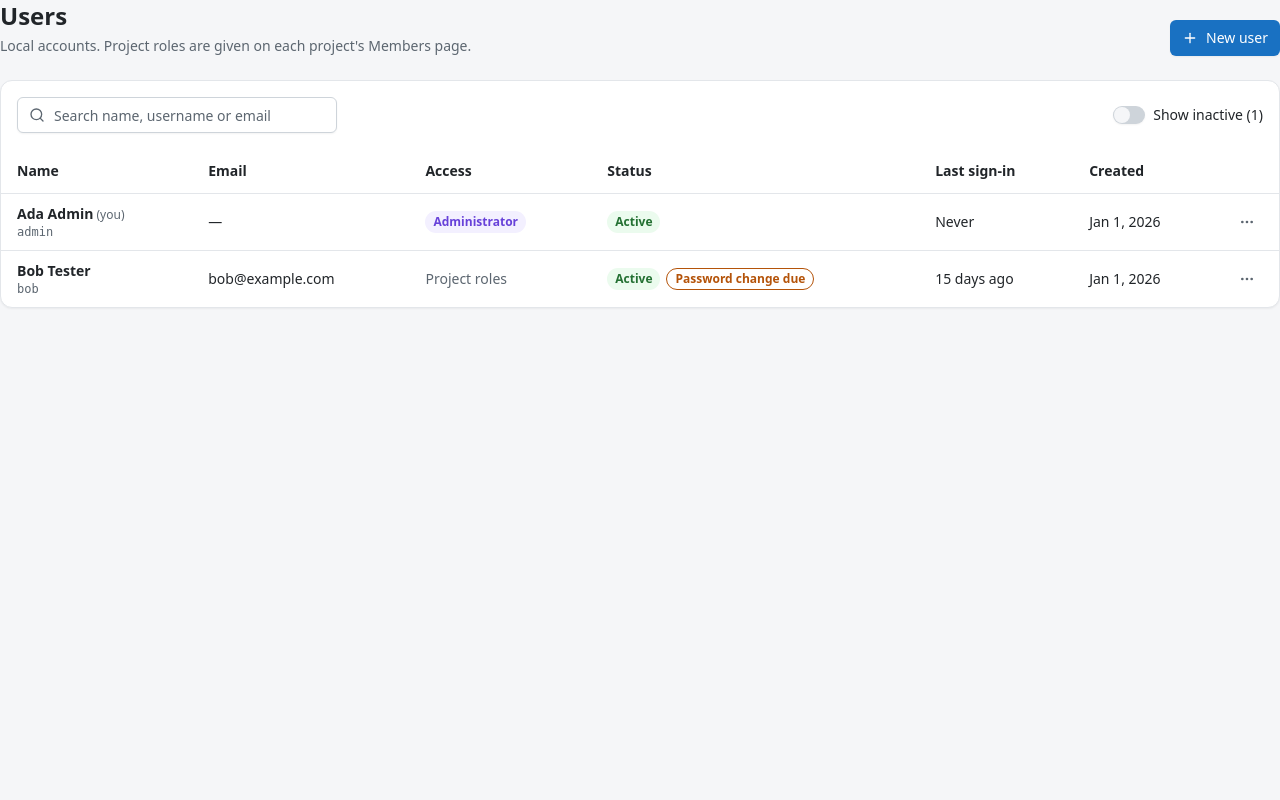
UsersPage › resets a password
Click the button named "Actions for Bob Tester". click: (1247, 278)
box: [1231,262,1263,294]
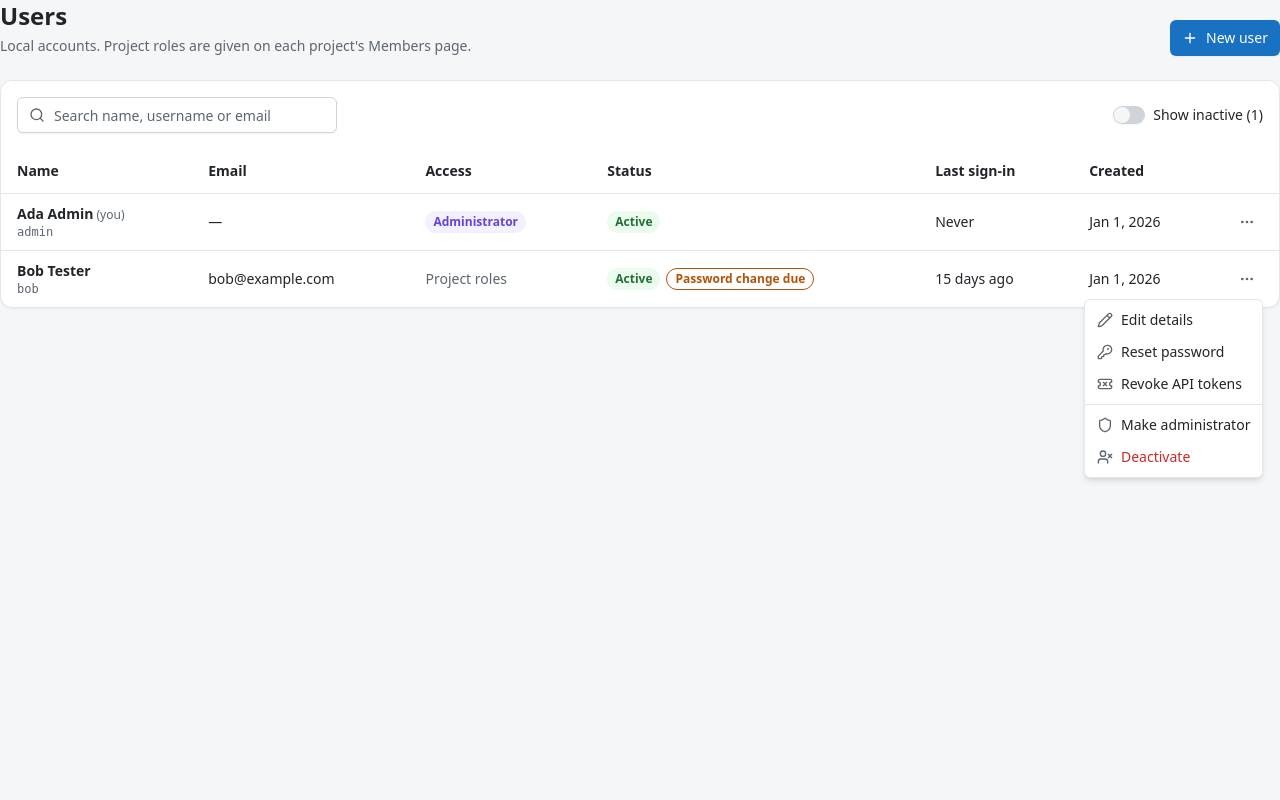
Click the menu item "Reset password". click: (1161, 352)
box: [1097,342,1224,361]
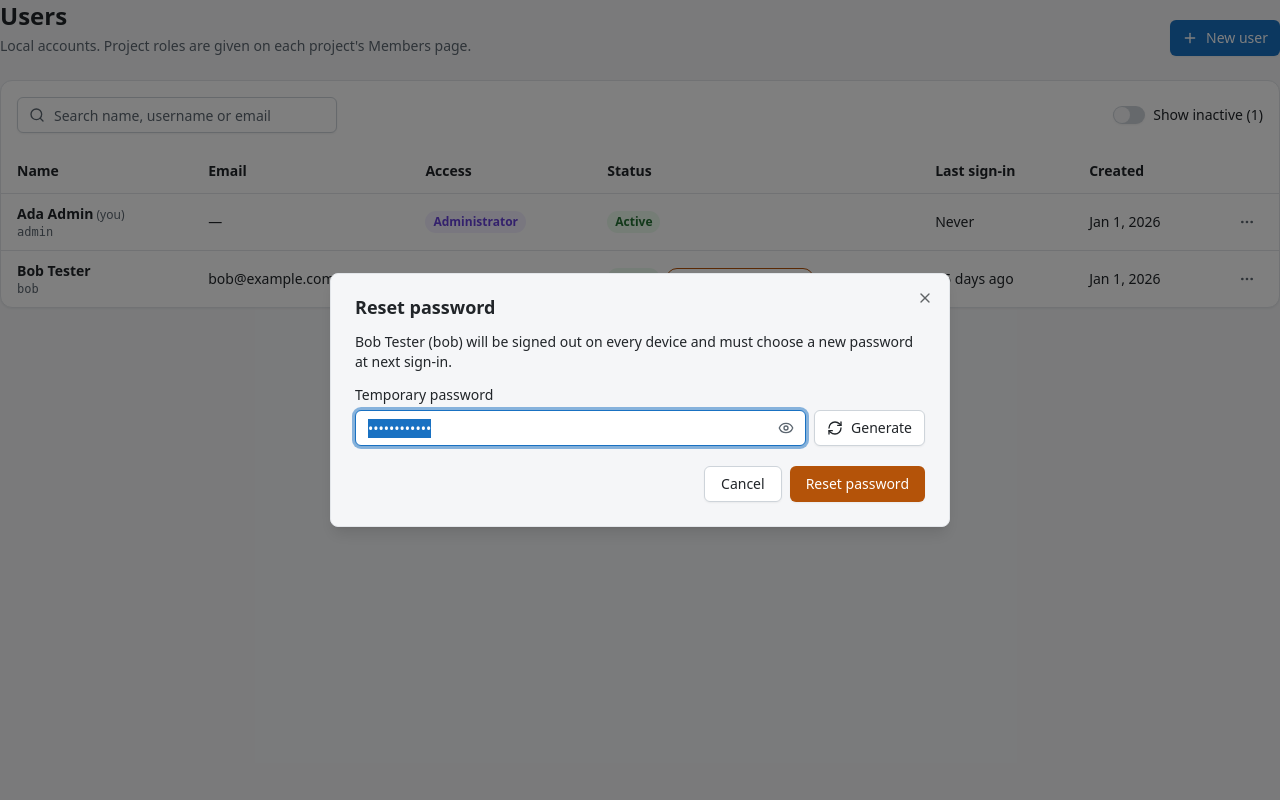
Expected: the text "will be signed out on every device" is shown, [355,332,913,371]
Type "short" into the password field labelled "Temporary password". click: (580, 428)
box: [355,410,806,446]
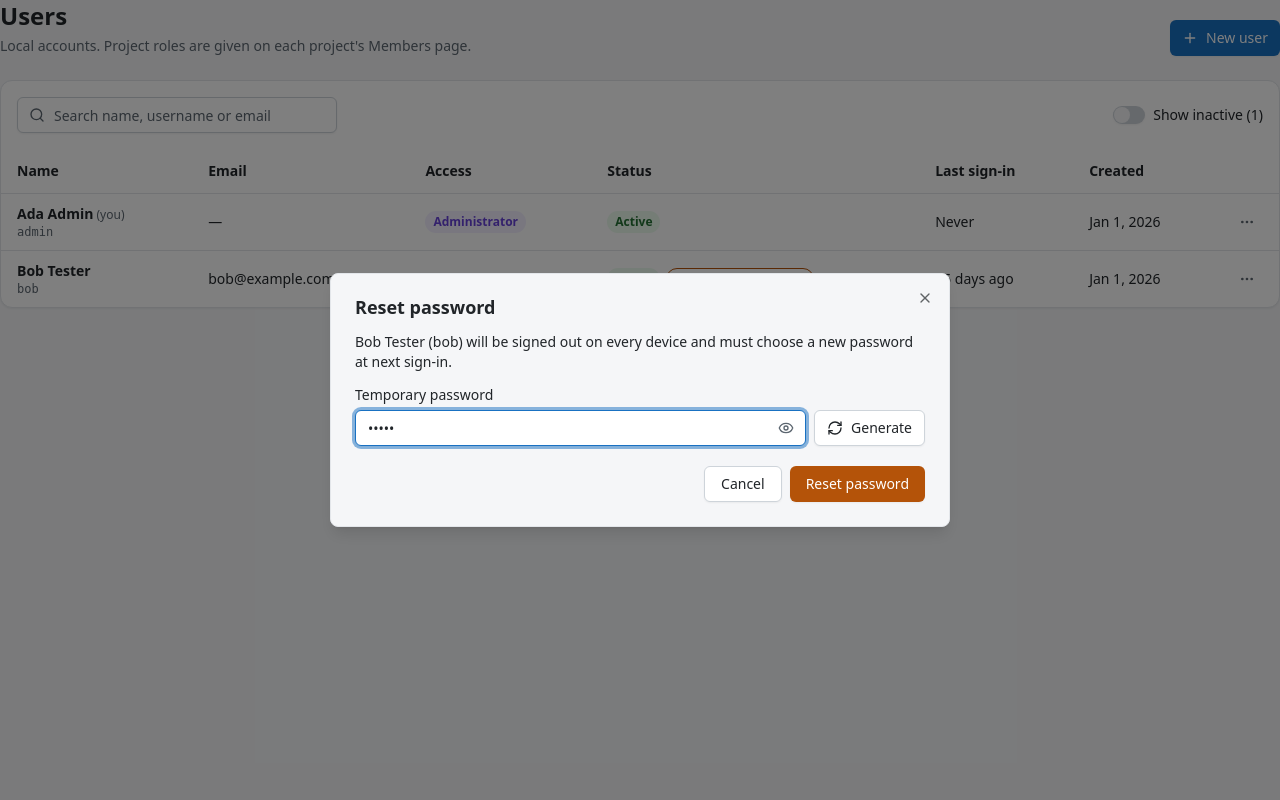
Click the button "Reset password". click: (857, 484)
box: [790,466,925,502]
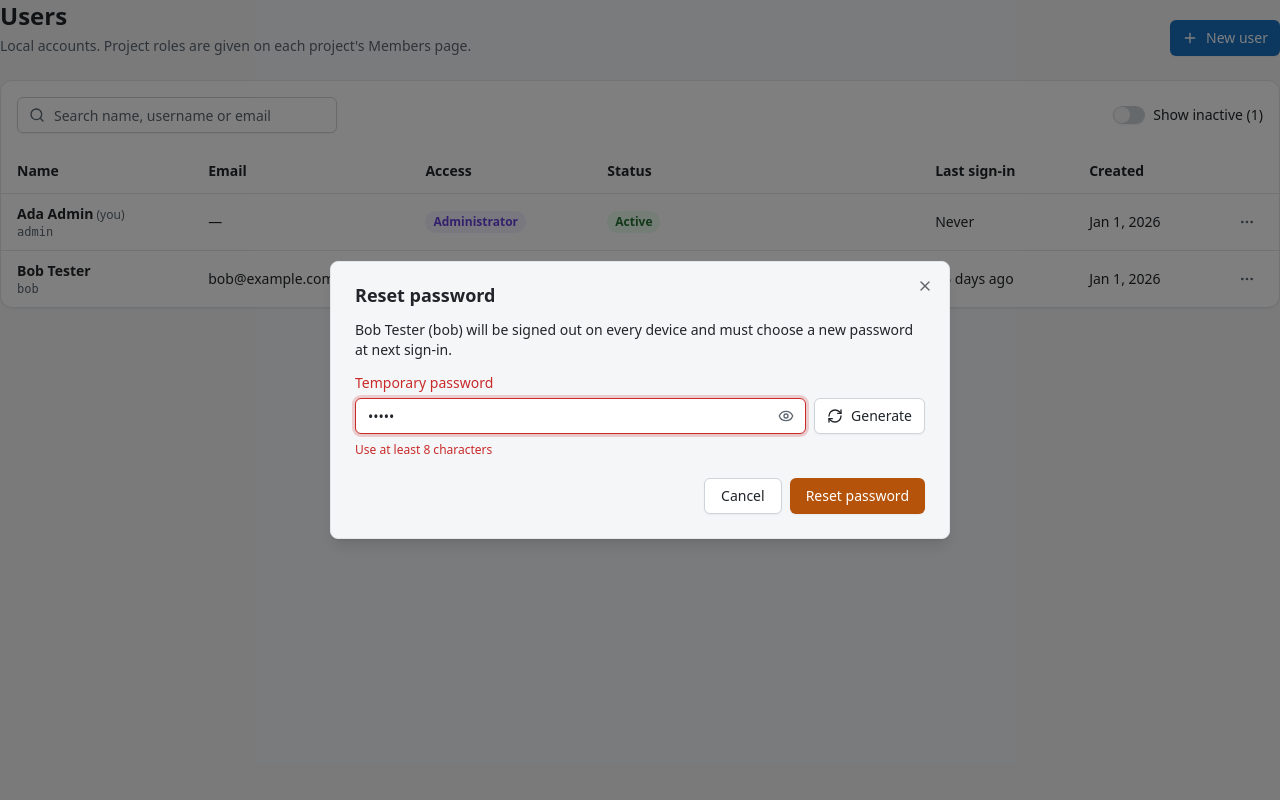
Expected: the text "Use at least 8 characters" is shown, [355,441,492,458]
Click the button "Generate". click: (870, 416)
box: [814,398,925,434]
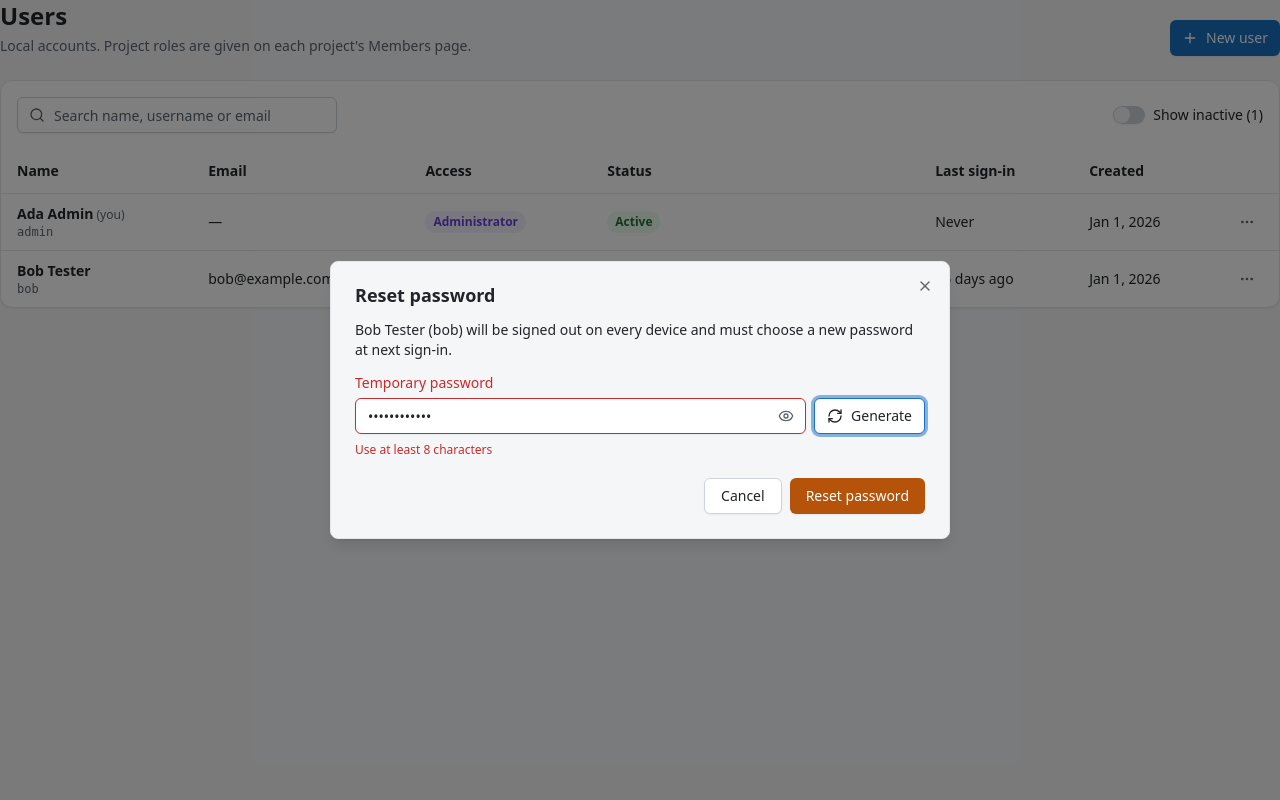
Click the button "Reset password". click: (857, 496)
box: [790,478,925,514]
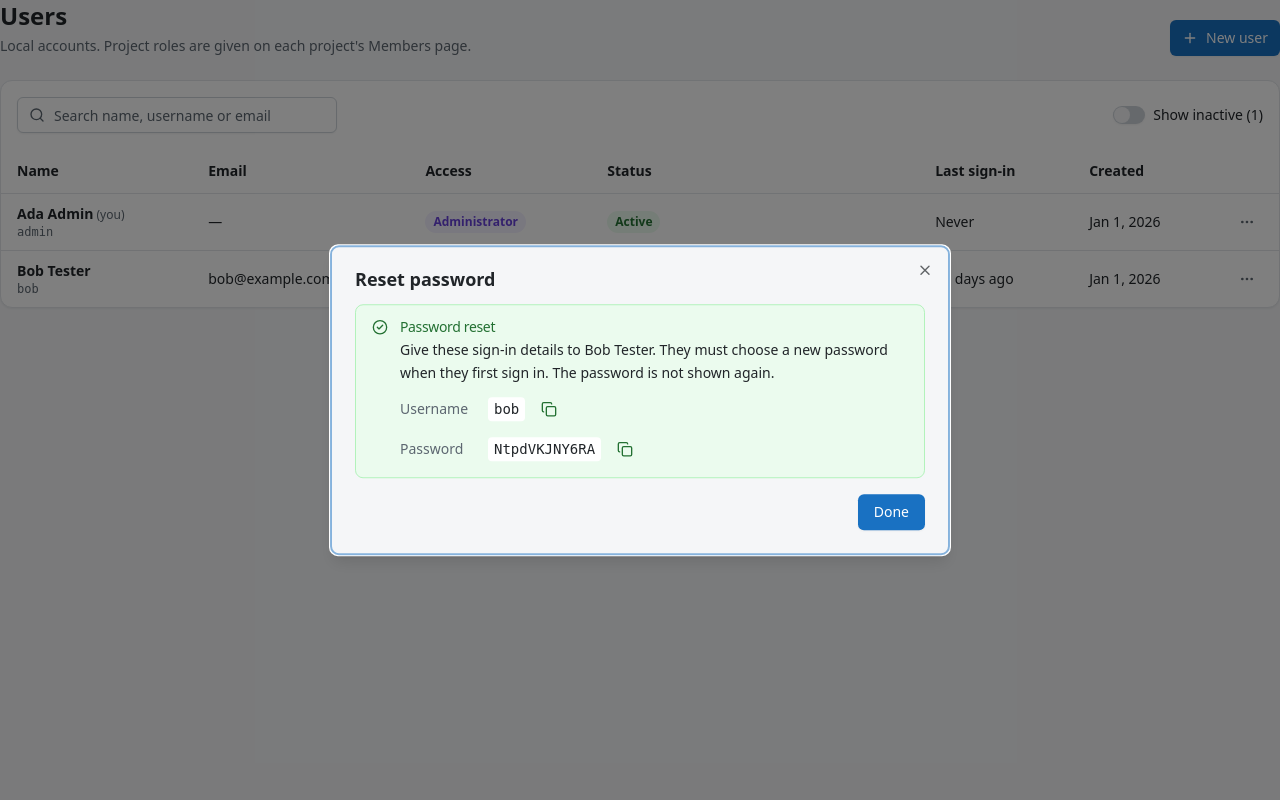
Expected: the text "Password reset" is shown, [400,317,495,336]
